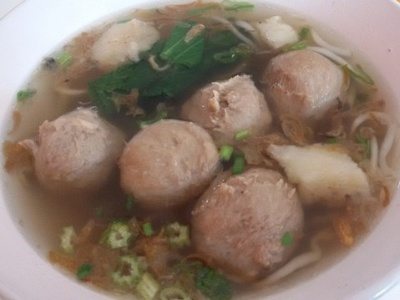bakso: (33, 20, 354, 270)
